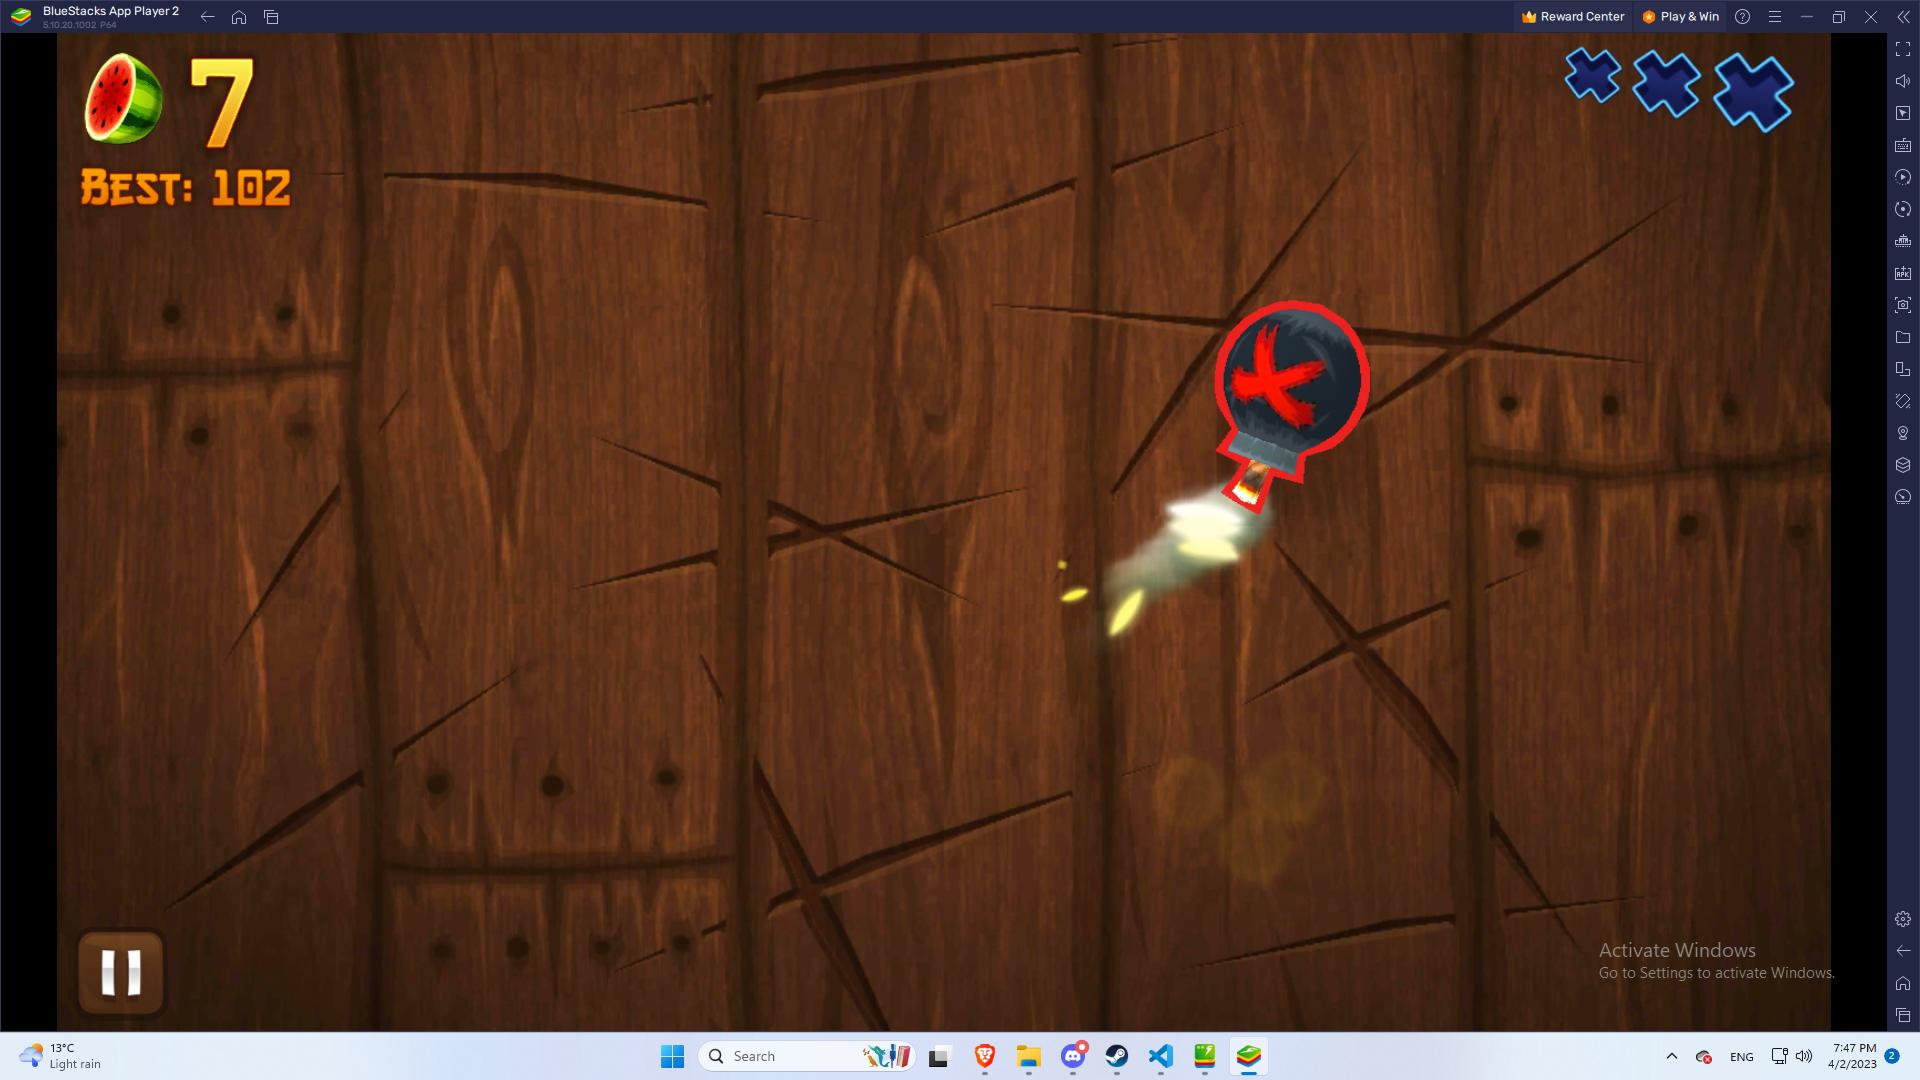bomb: (1185, 294, 1377, 526)
